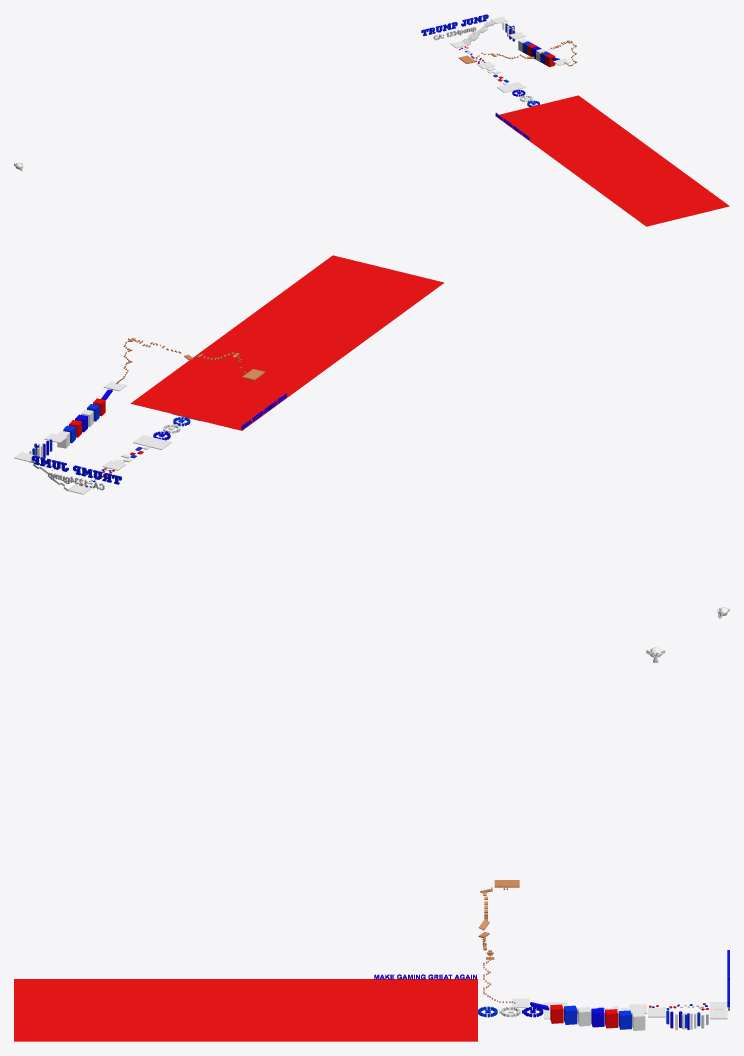
3 renders of one model, top to bottom at view 1: azimuth 30°, elevation 25°; view 2: azimuth 150°, elevation 25°; view 3: azimuth 270°, elevation 25°, orthographic. The views are drawn at different scales.
Visible parts, largest first — view 1: Box; view 2: Box; view 3: Box.
Boxes of the visible parts, box(x1,y1,x2,y2) form: Box: box(495, 95, 729, 226); Box: box(130, 255, 444, 430); Box: box(14, 979, 477, 1041).
Bounding box in the file's own units: 3538 × 402 × 2806.
